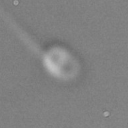normal: (1, 8, 45, 54)
